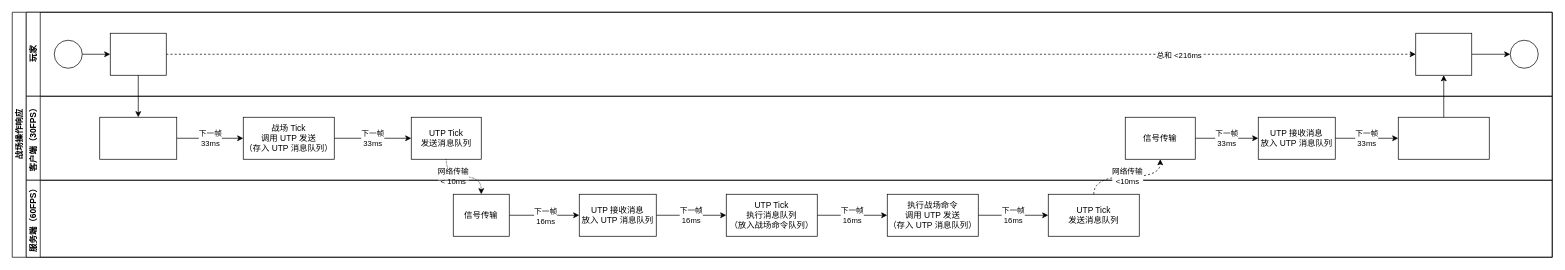
Image size: 1565x270. Some labels were removed from this diagram. The shapes that lost their labels are listed below. From the top down, each one's centre as x and y in pixels, then its label:
point (68, 54): 决策
point (138, 54): 执行操作
point (1443, 54): 视觉反馈
point (1524, 54): 感受
point (138, 138): UI 响应 放入战场命令队列
point (1443, 138): UTP Tick 执行消息队列 （创建对应表现）
